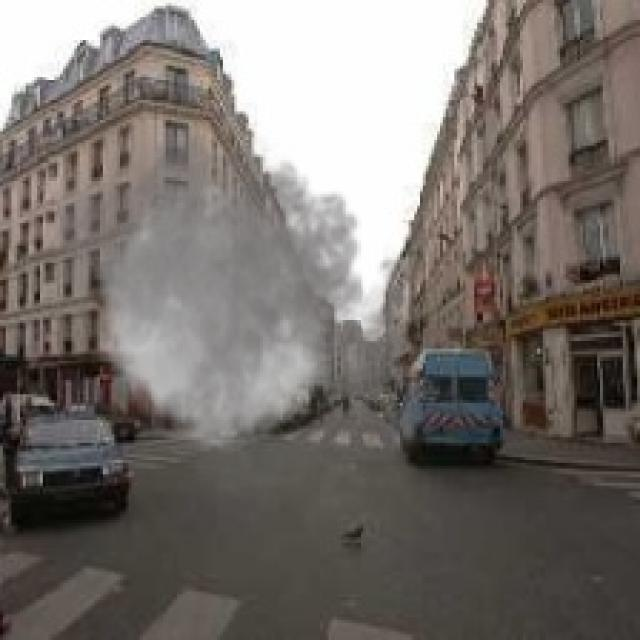Smoke: (37, 106, 437, 523)
